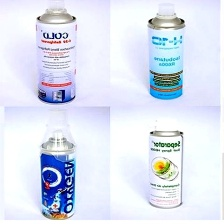aerosol_cans: (34, 0, 79, 106), (143, 0, 188, 103), (145, 115, 186, 210), (38, 128, 79, 221)
